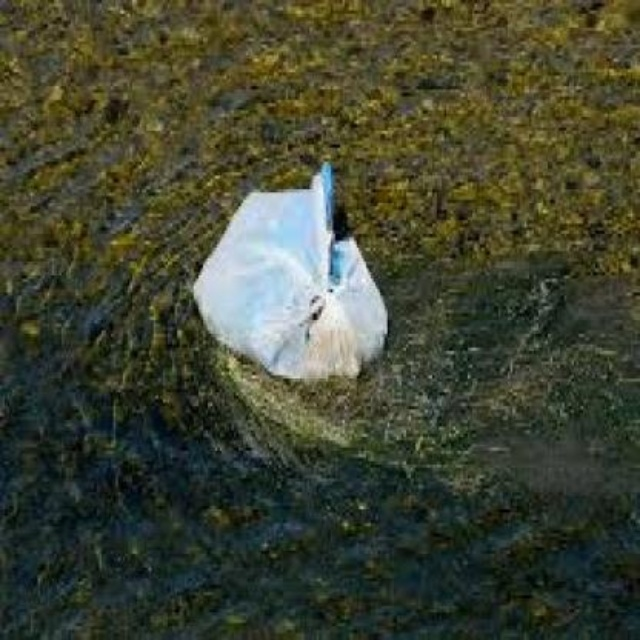trash: (194, 163, 386, 378)
